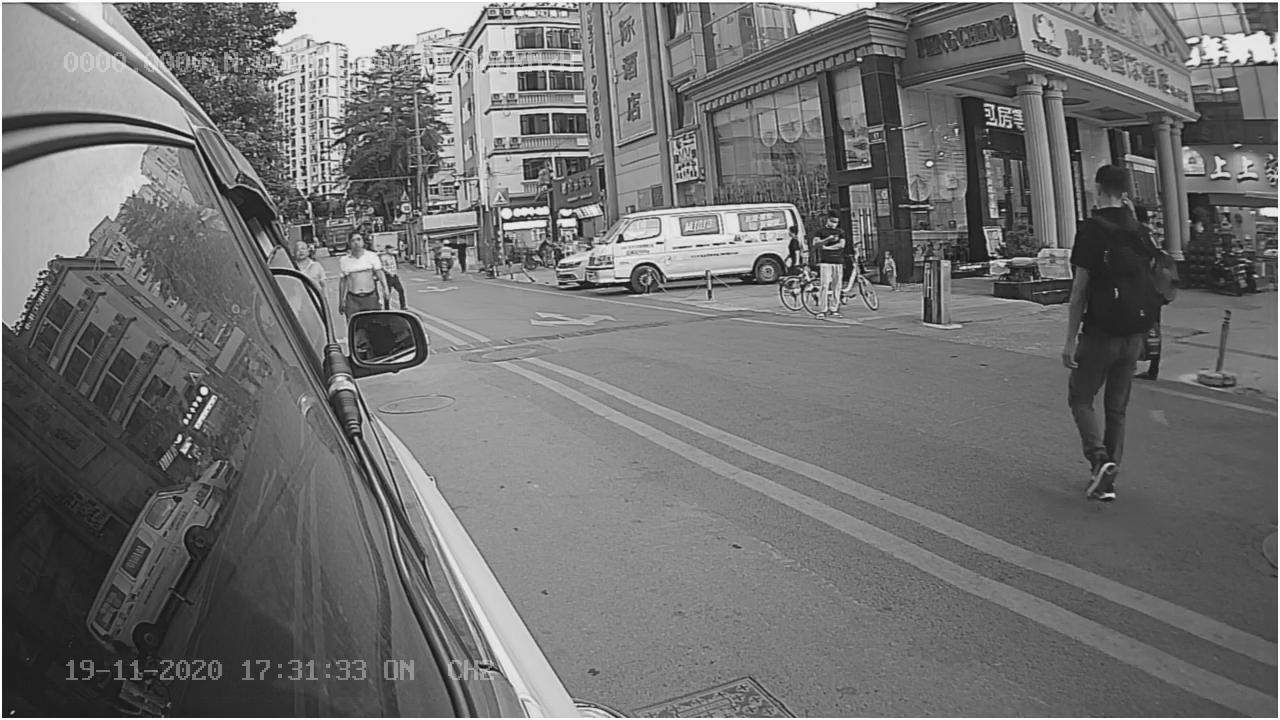person: (1054, 158, 1144, 492)
